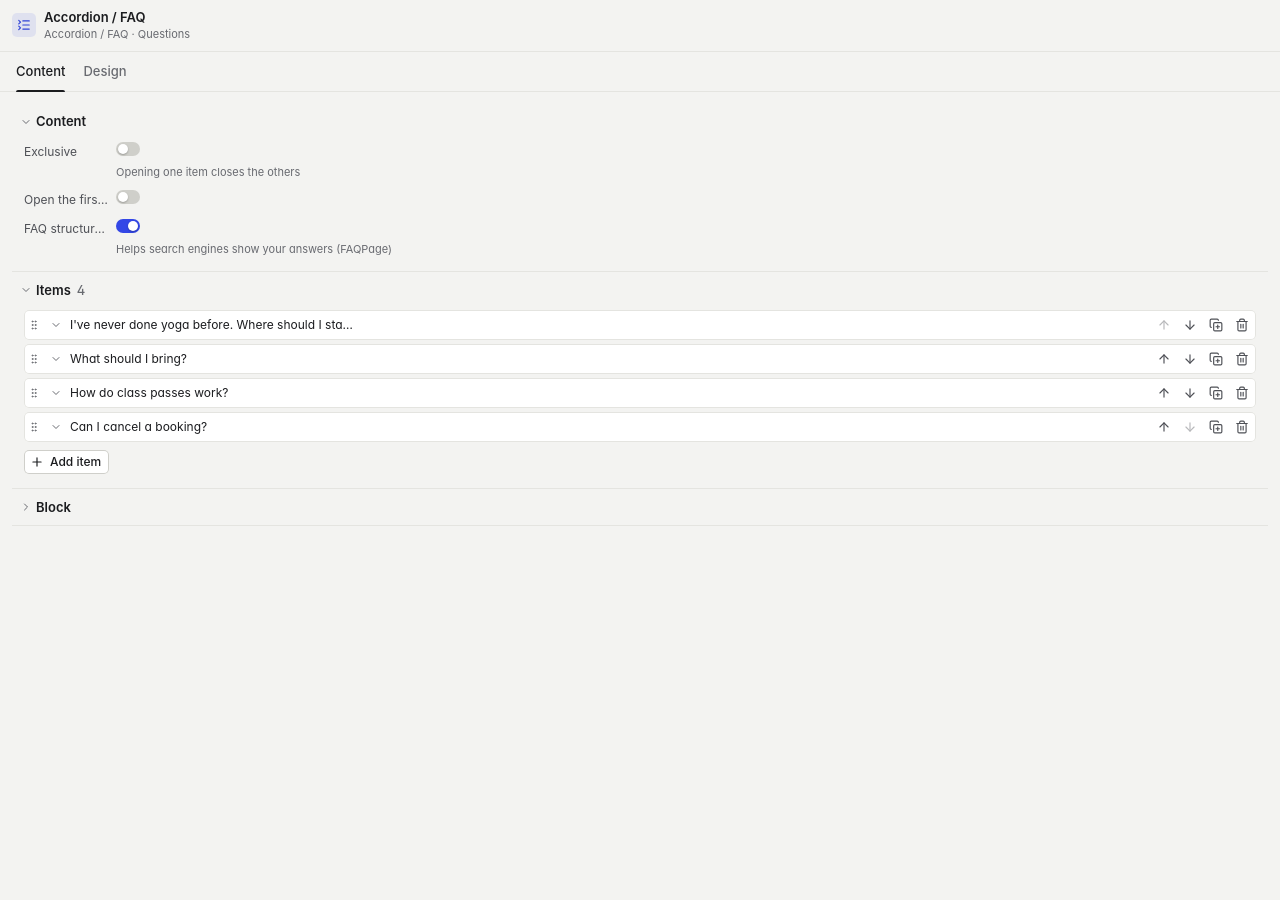
list editors › edits a field inside a list item
The width and height of the screenshot is (1280, 900).
Click the button "I've never done yoga before. Where should I sta…".
click(211, 325)  # box [46,311,1150,339]
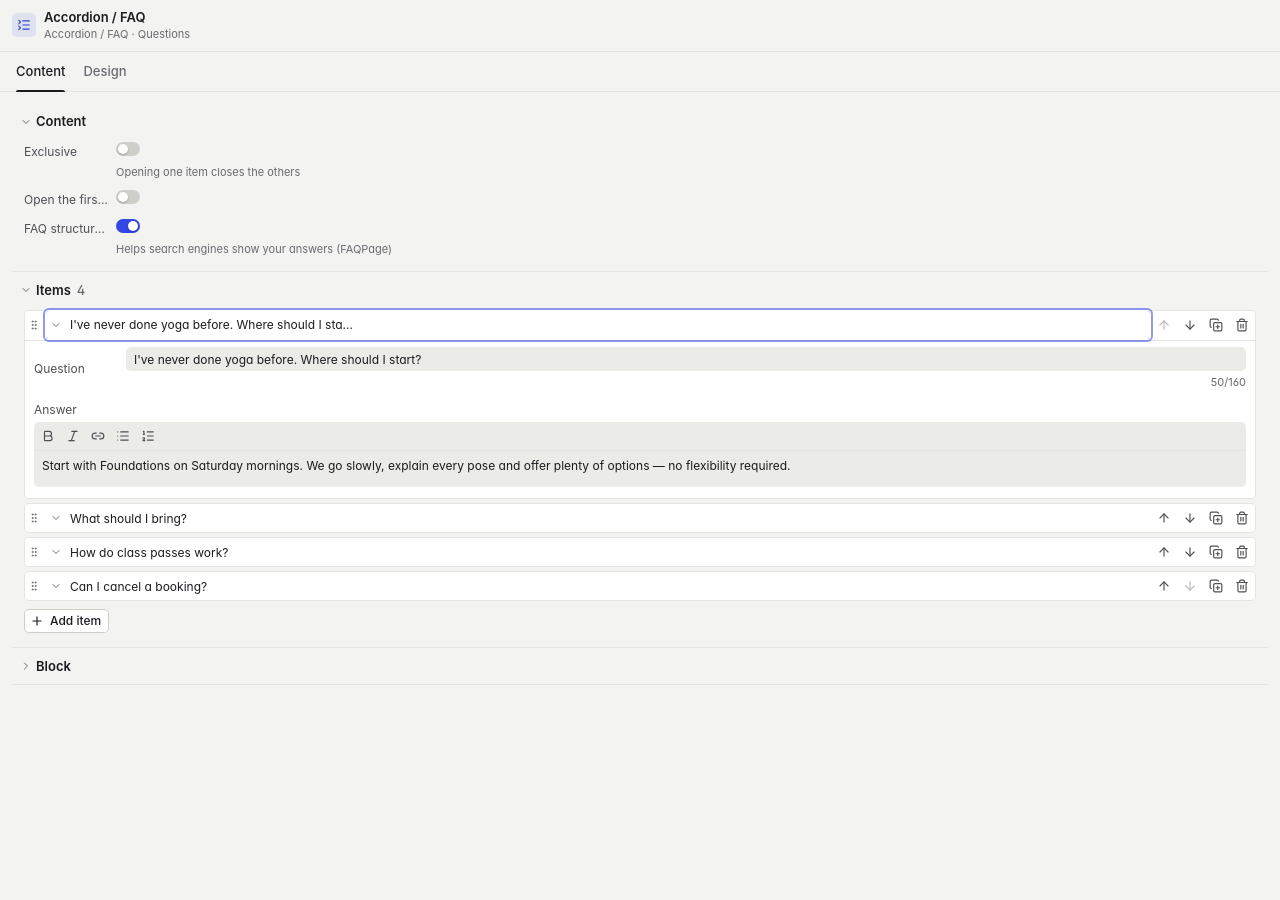
Replace the text in the field labelled "Question" with "Do I need my own mat?" at (686, 359), box [126,347,1246,371]
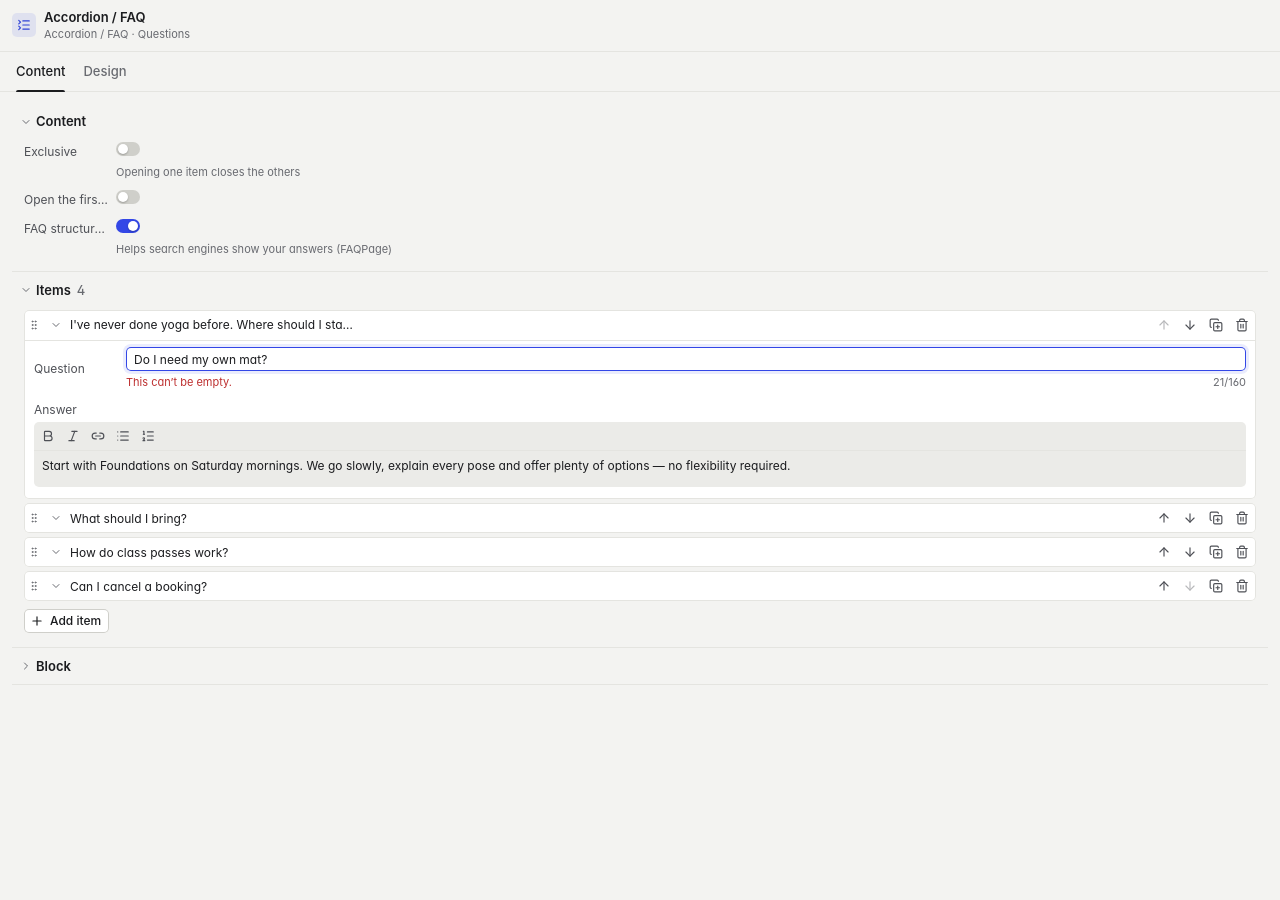
Leave the field labelled "Question", box [126,347,1246,371]
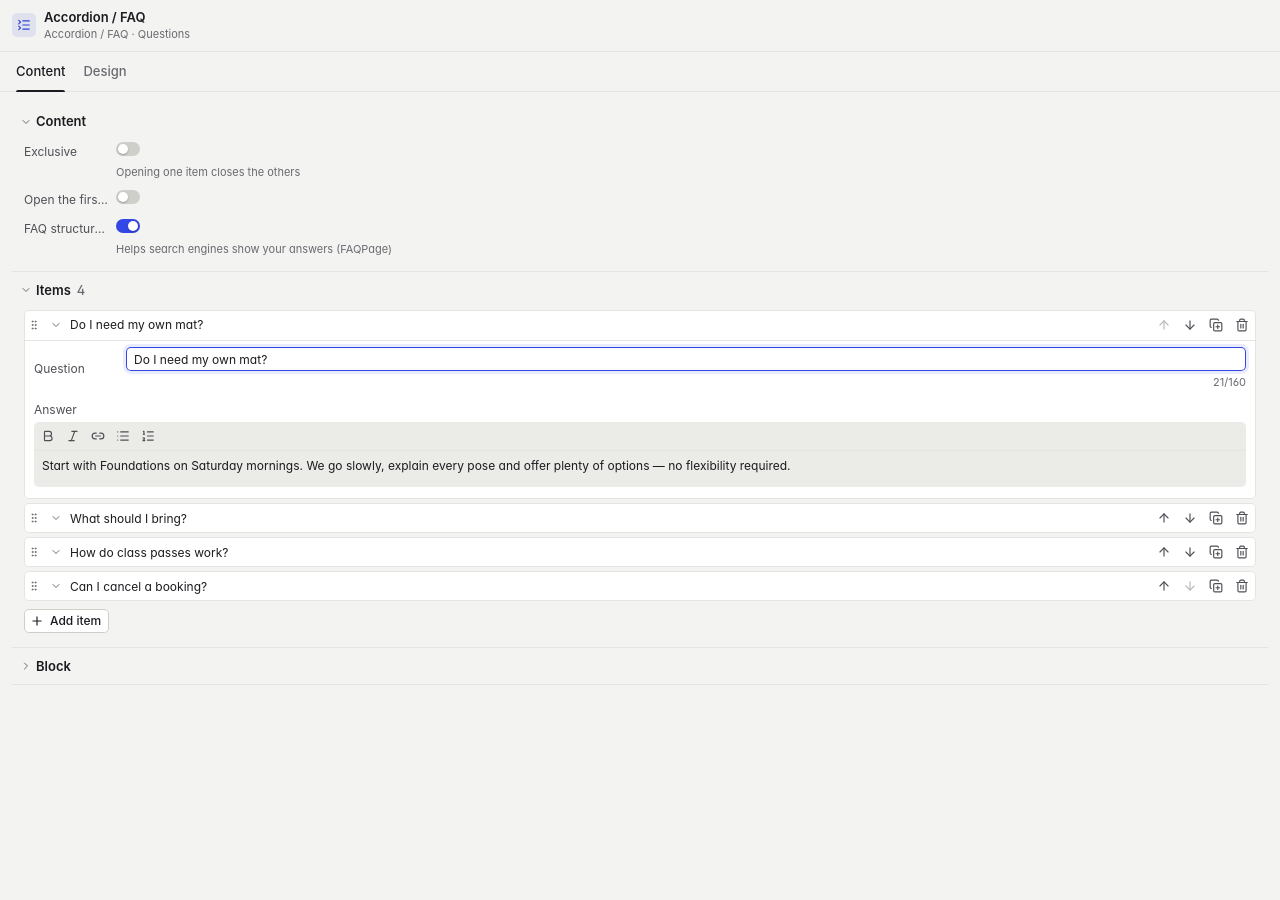
Expected: the text "Do I need my own mat?" is shown, [70,316,203,334]
